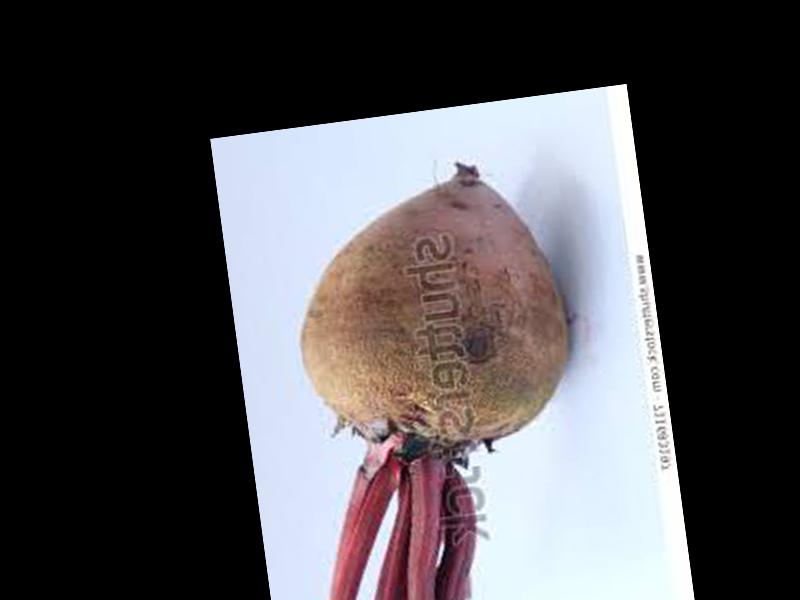Beet: (276, 158, 602, 600)
